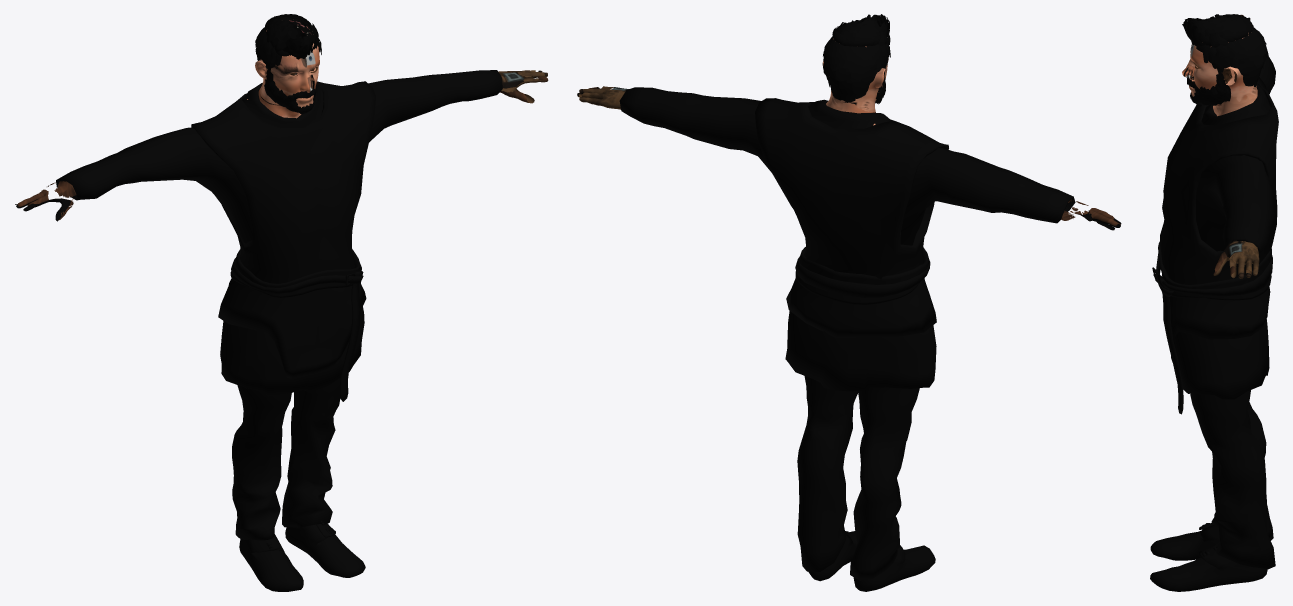
Rendered from Arthur.obj.
3 views of the same model, side by side, from view 1: azimuth 30°, elevation 25°; view 2: azimuth 150°, elevation 25°; view 3: azimuth 270°, elevation 25° (orthographic).
Parts seen in each view (by area): view 1: Tops, Bottoms, Shoes, Body, Hair; view 2: Tops, Bottoms, Hair, Body, Shoes; view 3: Tops, Bottoms, Shoes, Hair, Body, Beards, Moustaches.
Part boxes in pixels (x1,y1,x2,y2): Tops: (56,70,502,401); Bottoms: (232,378,340,540); Shoes: (239,521,365,591); Body: (15,20,548,221); Hair: (255,14,321,74); Tops: (619,87,1075,391); Bottoms: (797,376,919,580); Hair: (823,14,890,102); Body: (577,38,1121,230); Shoes: (808,531,935,591); Tops: (1152,31,1278,414); Bottoms: (1190,390,1275,569); Shoes: (1150,523,1267,591); Hair: (1182,14,1267,86); Body: (1182,14,1259,278); Beards: (1190,73,1230,105); Moustaches: (1187,76,1211,105).
Bounding box in the file's own units: 186 × 181 × 38.25.
Materials: 1 (1 with a texture image).
